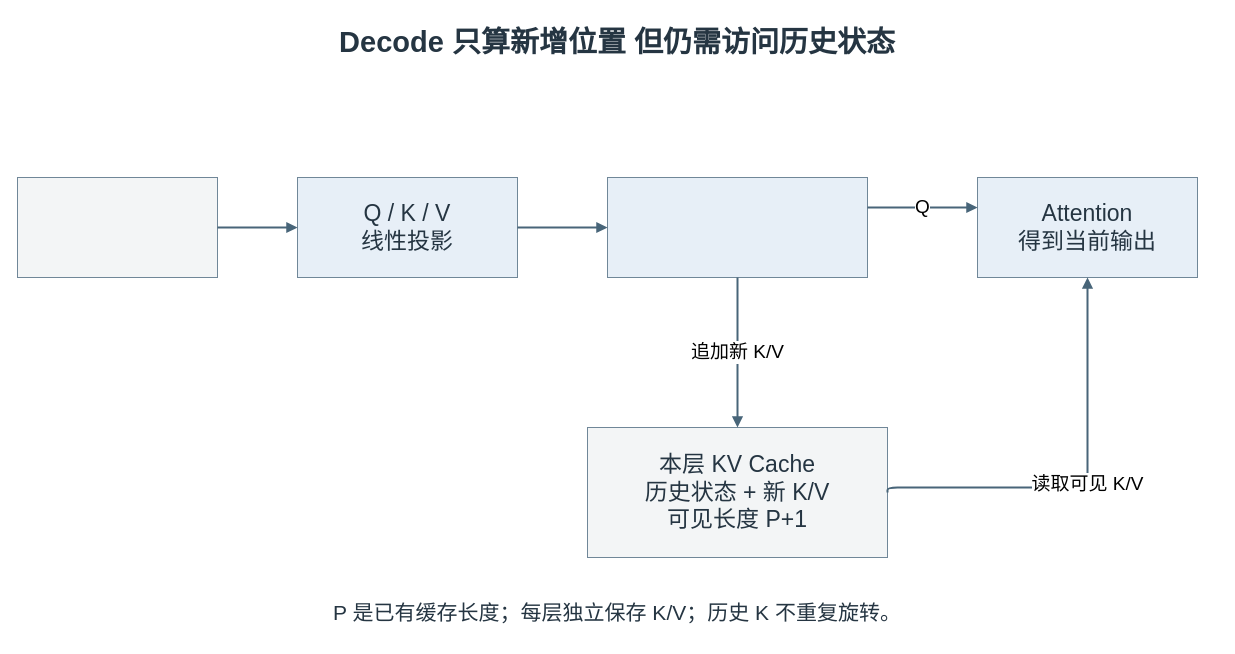
This 1235x654 diagram has some shape labels left out. Here are the shapes that lost their labels. From the top down, the centre of each, then its label:
At [117,227]: "新增隐藏向量 [B, 1, H]".
At [737,227]: "Q / K 做 RoPE V 不旋转".
